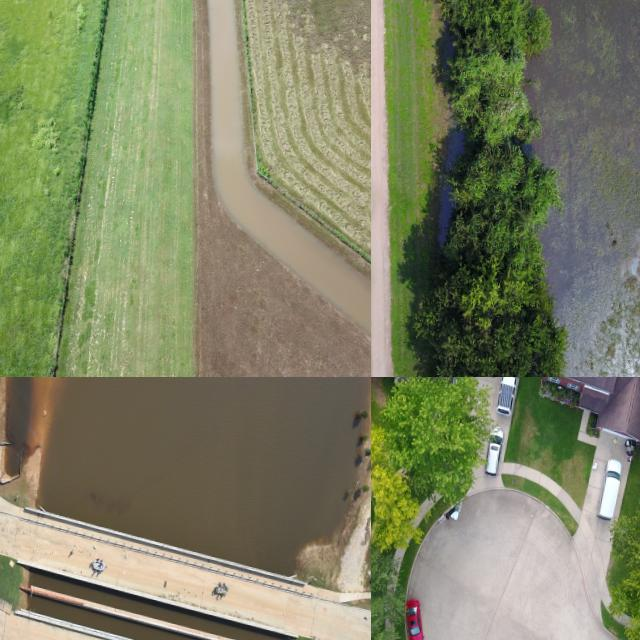fire: (40, 377, 371, 574), (209, 0, 371, 336), (527, 0, 640, 377), (29, 570, 284, 640), (26, 592, 195, 640), (0, 377, 52, 476)
